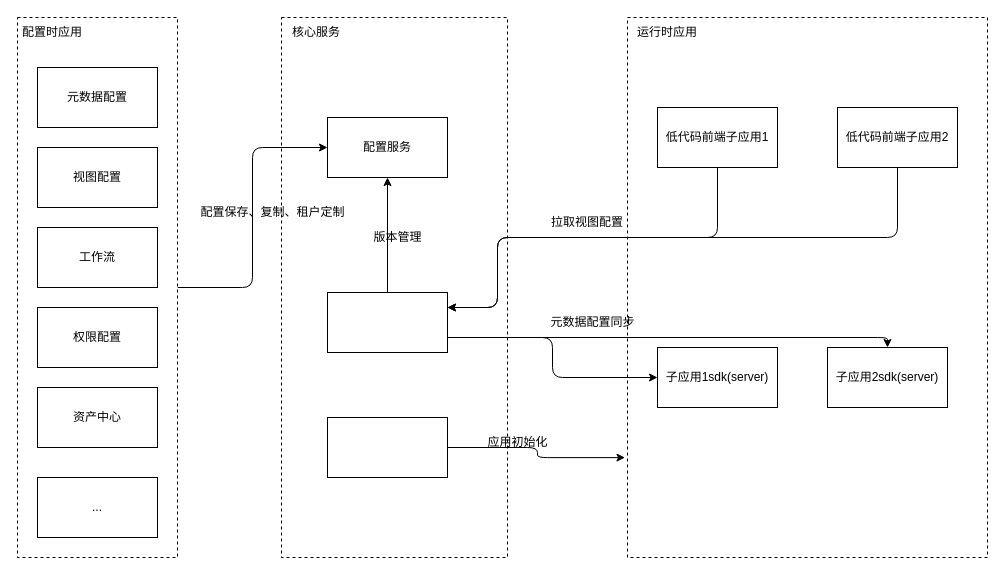
The diagram is 1005 pixels wide and 575 high, and some of its shapes have lost their labels. Each missing label, with the centre of its shape:
"发布/部署中心" goes at pixel 387 322.
"应用管理" goes at pixel 387 447.
